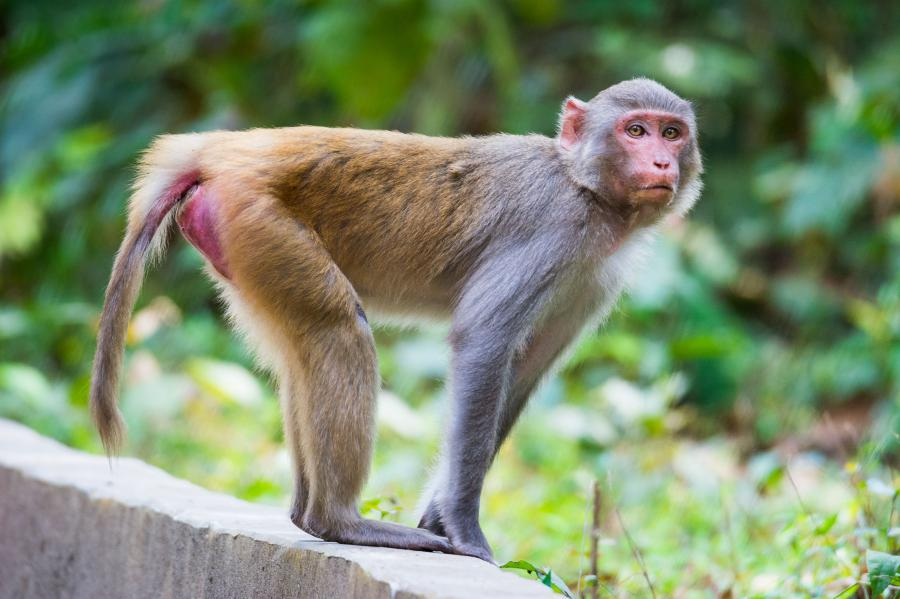monkey: (67, 68, 724, 561)
